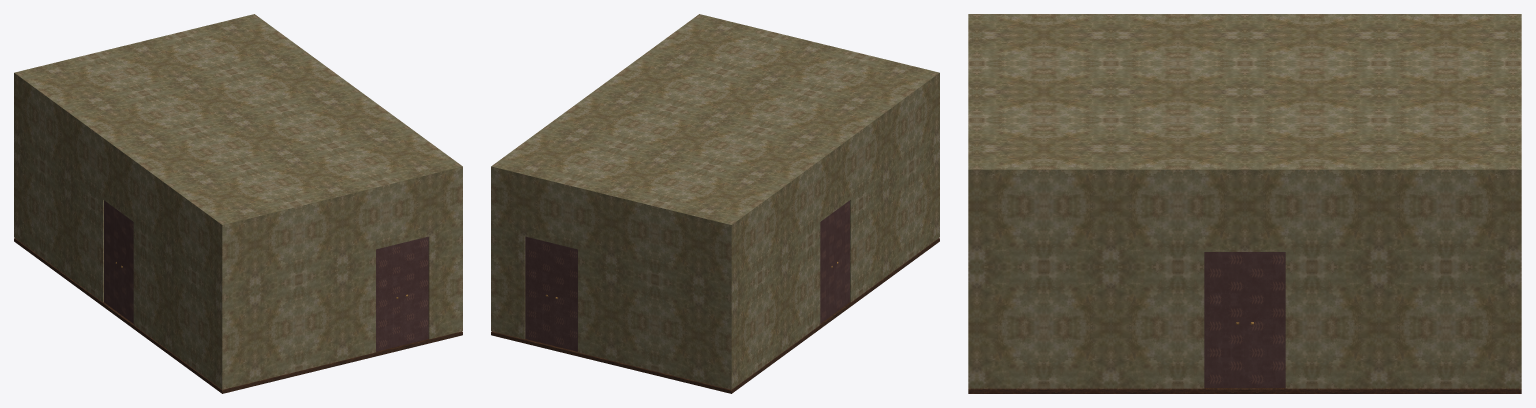
File: Banheiro.glb
3 renders of one model, left to right at view 1: azimuth 30°, elevation 25°; view 2: azimuth 150°, elevation 25°; view 3: azimuth 270°, elevation 25°, orthographic. The views are drawn at different scales.
Parts seen in each view (by area): view 1: Teto__Reboco, Parede_S__Reboco, Parede_O__Reboco, Fecho_S__Damasco, Fecho_O__Damasco, Parede_N__Reboco, Piso__Ebanizada, Parede_L__Reboco; view 2: Teto__Reboco, Parede_N__Reboco, Parede_O__Reboco, Fecho_N__Damasco, Fecho_O__Damasco, Parede_S__Reboco, Piso__Ebanizada, Parede_L__Reboco; view 3: Parede_L__Reboco, Teto__Reboco, Fecho_L__Damasco, Parede_N__Reboco, Parede_S__Reboco, Parede_O__Reboco, Piso__Ebanizada.
Boxes of the visible parts, box(x1,y1,x2,y2) form: Teto__Reboco: box(14, 14, 462, 229); Parede_S__Reboco: box(216, 162, 462, 389); Parede_O__Reboco: box(20, 75, 226, 384); Fecho_S__Damasco: box(376, 236, 428, 351); Fecho_O__Damasco: box(104, 200, 133, 323); Parede_N__Reboco: box(14, 14, 260, 241); Piso__Ebanizada: box(14, 238, 462, 393); Parede_L__Reboco: box(250, 19, 455, 164); Teto__Reboco: box(491, 14, 939, 229); Parede_N__Reboco: box(491, 162, 737, 389); Parede_O__Reboco: box(727, 75, 933, 384); Fecho_N__Damasco: box(525, 236, 577, 351); Fecho_O__Damasco: box(820, 200, 849, 323); Parede_S__Reboco: box(693, 14, 939, 241); Piso__Ebanizada: box(491, 238, 939, 393); Parede_L__Reboco: box(500, 18, 703, 164); Parede_L__Reboco: box(985, 162, 1504, 388); Teto__Reboco: box(968, 14, 1521, 175); Fecho_L__Damasco: box(1204, 252, 1285, 387); Parede_N__Reboco: box(1504, 14, 1521, 388); Parede_S__Reboco: box(968, 14, 985, 388); Parede_O__Reboco: box(985, 14, 1504, 20); Piso__Ebanizada: box(968, 388, 1521, 393).
Bounding box in the file's own units: 22 × 14.76 × 33.
19 materials, 18 textured.
